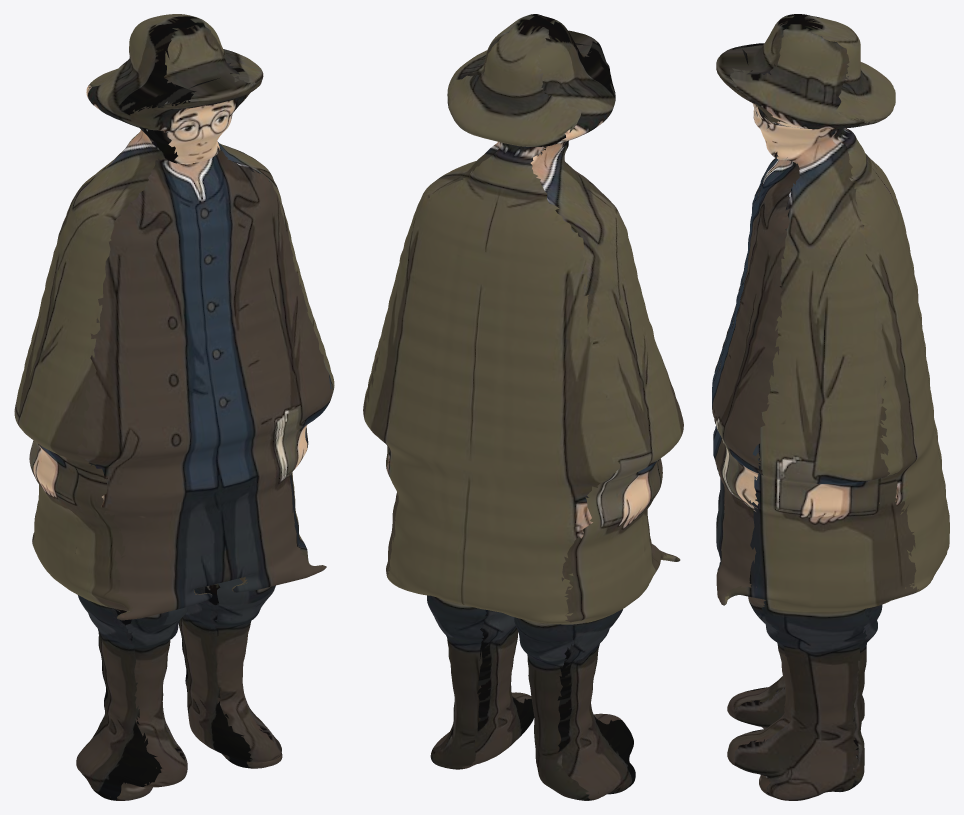
The model's file is miyazawa_kenji.glb.
The picture shows the model from 3 angles, left to right: view 1: azimuth 30°, elevation 25°; view 2: azimuth 150°, elevation 25°; view 3: azimuth 270°, elevation 25°; orthographic projection.
Visible parts, largest first — view 1: MiyazawaKenji; view 2: MiyazawaKenji; view 3: MiyazawaKenji.
Boxes of the visible parts, bbox=[...] form: MiyazawaKenji: bbox=[14, 14, 334, 800]; MiyazawaKenji: bbox=[363, 14, 683, 800]; MiyazawaKenji: bbox=[712, 14, 949, 800].
Bounding box in the file's own units: 0.6597 × 1.65 × 0.4781.
Materials: 1 (1 with a texture image).
